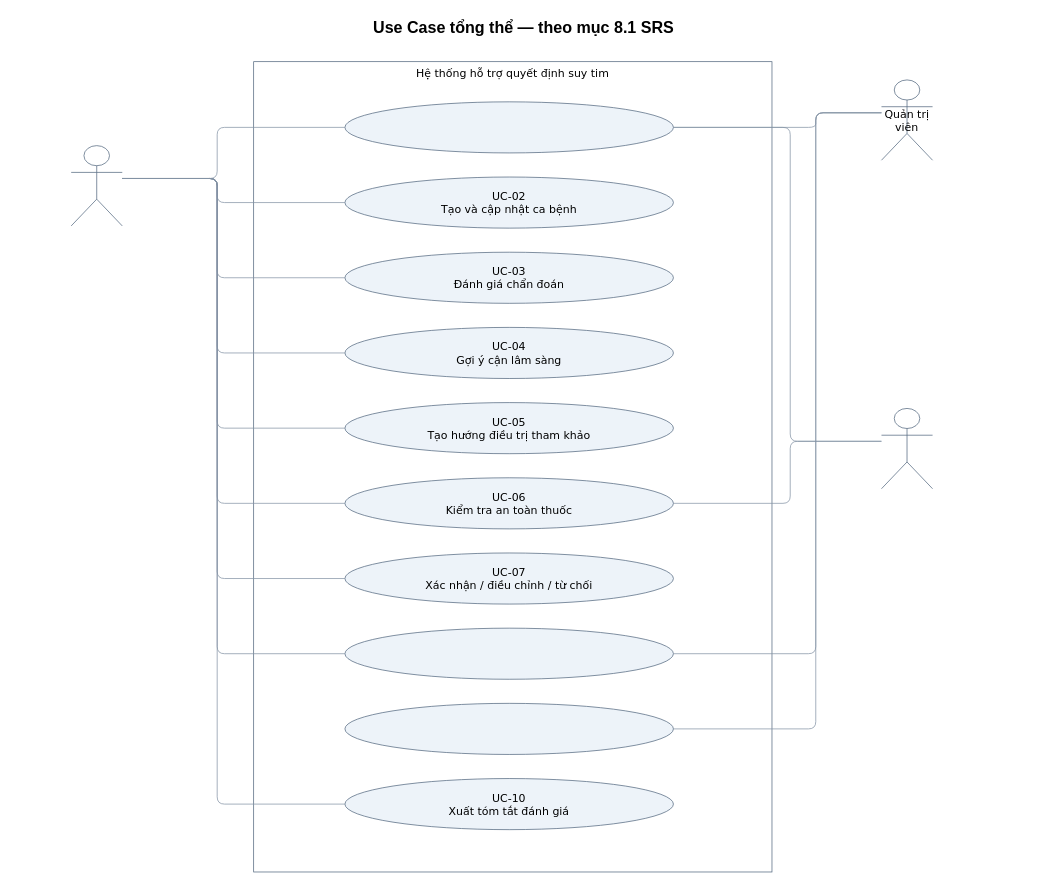
The diagram is 1047 pixels wide and 885 high, and some of its shapes have lost their labels. Here are the shapes that lost their labels. From the top down, the centre of each, then its label:
the point at 508,127: UC-01 Đăng nhập và phân quyền
the point at 96,185: Bác sĩ
the point at 907,448: Dược sĩ
the point at 508,653: UC-08 Xem lịch sử và Audit Trail
the point at 508,728: UC-09 Quản lý quy tắc và phiên bản
